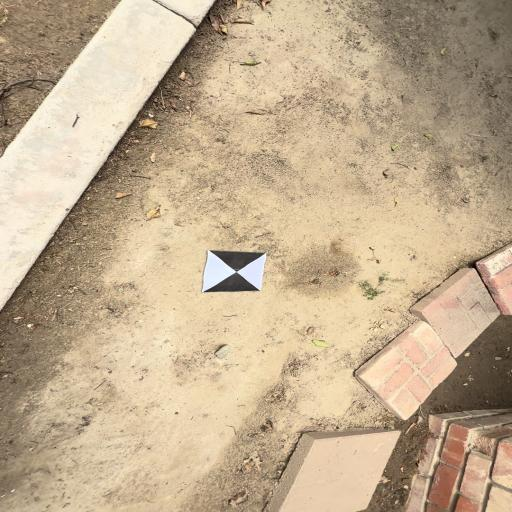target: (201, 251, 266, 293)
